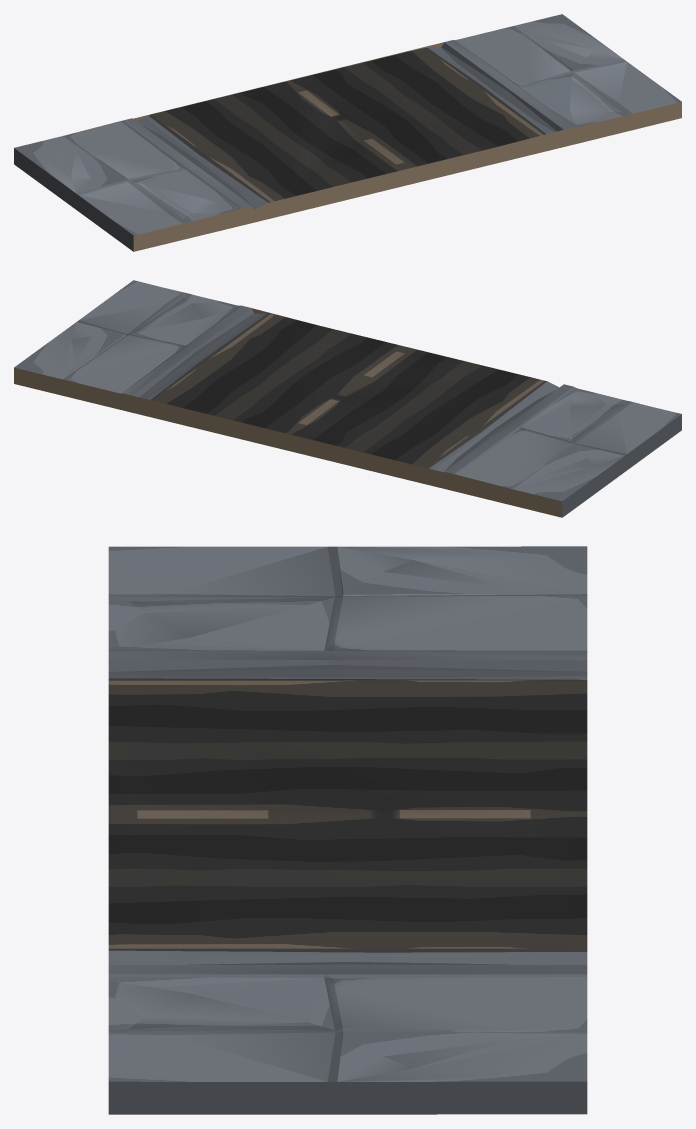
The model's file is roadnormal2_1.fbx.
3 renders of one model, top to bottom at view 1: azimuth 30°, elevation 25°; view 2: azimuth 150°, elevation 25°; view 3: azimuth 270°, elevation 25°, orthographic. The views are drawn at different scales.
Parts seen in each view (by area): view 1: Road_2_1; view 2: Road_2_1; view 3: Road_2_1.
Part boxes in pixels (bbox=[...]): Road_2_1: bbox=[14, 14, 681, 251]; Road_2_1: bbox=[14, 280, 681, 517]; Road_2_1: bbox=[108, 546, 587, 1114].
Size of the model in its own units: 1300 by 39.52 by 491.
Materials: 2 (2 with a texture image).
